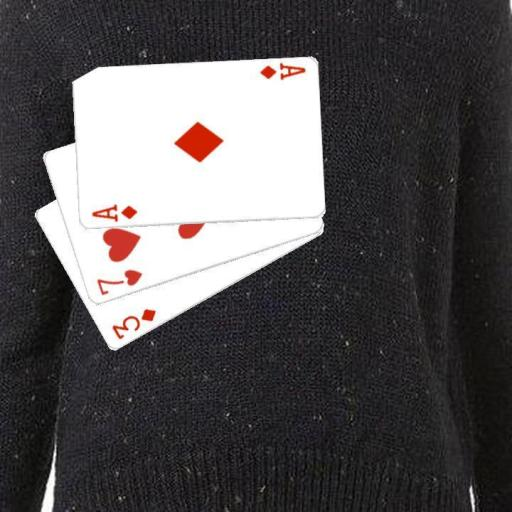card-corner: (108, 306, 158, 342), (93, 266, 144, 297), (88, 202, 139, 224), (256, 60, 306, 82)
